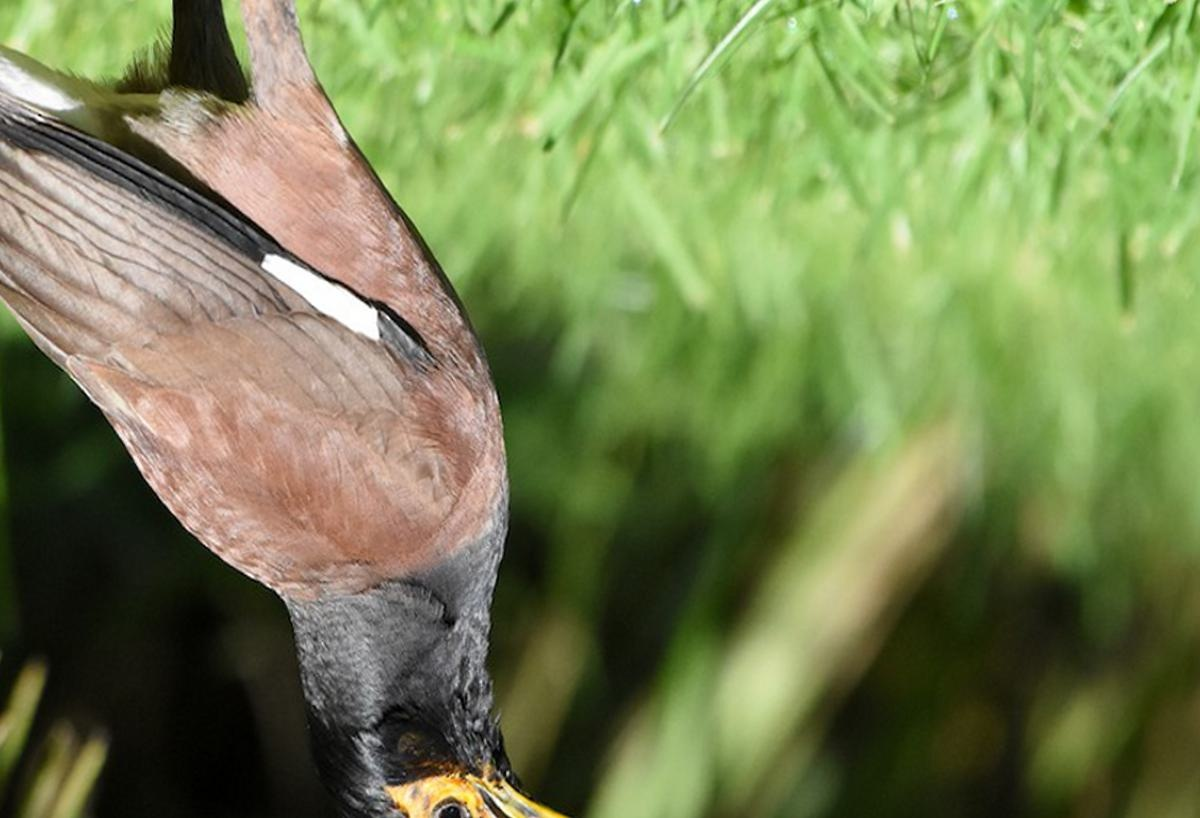myna: (1, 1, 616, 817)
